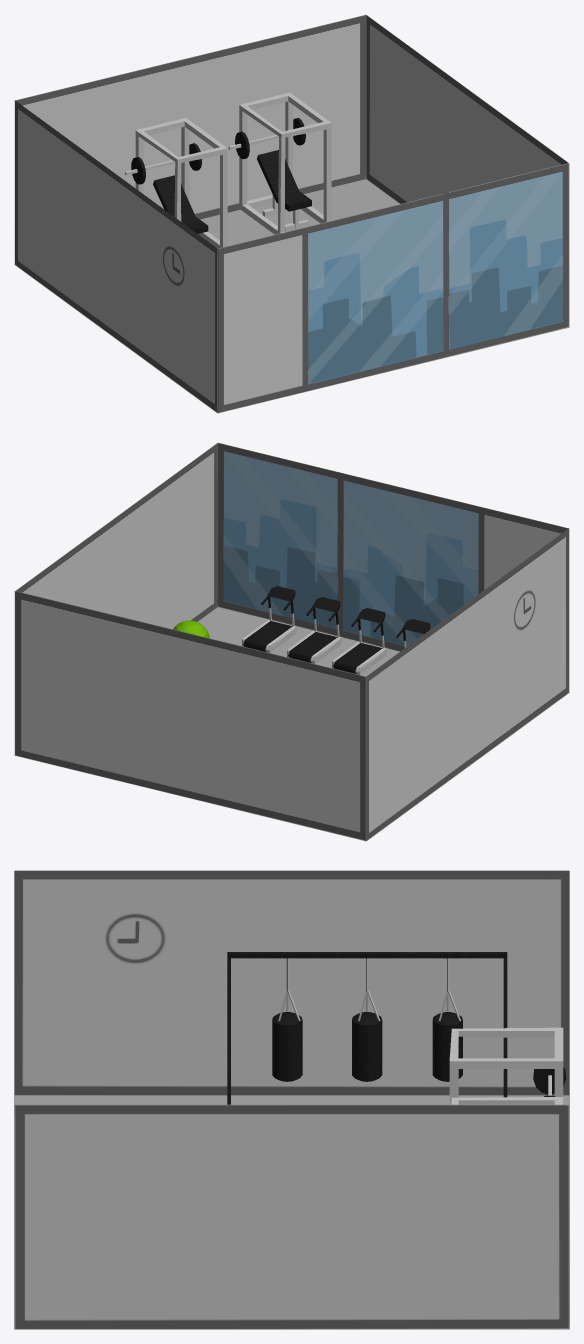
File: model_trainingroom_all.obj
3 views of the same model, one above another, from view 1: azimuth 30°, elevation 25°; view 2: azimuth 150°, elevation 25°; view 3: azimuth 270°, elevation 25° (orthographic). The views are drawn at different scales.
Visible parts, largest first — view 1: group7 group6 group5 group4 pasted__pPlane2 group8, group7 group6 group5 group4 group8 pasted__pPlane1, group7 group6 group5 group4 group8 pasted__pasted__pPlane2, group7 group6 group5 group4 group8 pasted__pasted__pasted__pPlan, pasted__group43 group group48 pasted__pCube6, pPlane1 group7 group6 group5 group4, group48 group43 group47 pCube6, pasted__group43 group group48 pasted__pCube4, group48 group43 group47 pCube4; view 2: group7 group6 group5 group4 group8 pasted__pPlane1, group7 group6 group5 group4 pasted__pPlane2 group8, group7 group6 group5 group4 group8 pasted__pasted__pPlane2, group7 group6 group5 group4 group8 pasted__pasted__pasted__pPlan, pPlane1 group7 group6 group5 group4, group17 group46 pasted__pCube1 pasted__group13 group14, group17 group46 pasted__pasted__pasted__pCube1 pasted__pasted__p, group17 group46 pasted__pasted__pCube1 pasted__pasted__group13 p, group17 group46 pasted__pasted__group13 pasted__group14 group15 , group17 group46 pasted__pasted__pasted__group13 pasted__pasted__; view 3: group7 group6 group5 group4 group8 pasted__pasted__pasted__pPlan, group7 group6 group5 group4 group8 pasted__pasted__pPlane2, pPlane1 group7 group6 group5 group4, group48 group43 group47 pCube6, group31 group32 group33 group29 group23 pCylinder1, group31 group32 group33 pasted__pasted__pCylinder1 pasted__group, pCube3 group31 group32 group33, group31 group32 group33 group30 pasted__pCylinder1 group21, pasted__group43 group group48 pasted__pCube6, group31 group32 group33 group28 pasted__pasted__pasted__pCube3 p, group31 group32 group33 pasted__pasted__pCube3 pasted__group26 g.
Part boxes in pixels (bbox=[...]): group7 group6 group5 group4 pasted__pPlane2 group8: bbox=[217, 163, 568, 412]; group7 group6 group5 group4 group8 pasted__pPlane1: bbox=[14, 14, 366, 264]; group7 group6 group5 group4 group8 pasted__pasted__pPlane2: bbox=[15, 100, 218, 412]; group7 group6 group5 group4 group8 pasted__pasted__pasted__pPlan: bbox=[366, 15, 569, 327]; pasted__group43 group group48 pasted__pCube6: bbox=[239, 92, 331, 234]; pPlane1 group7 group6 group5 group4: bbox=[14, 179, 569, 413]; group48 group43 group47 pCube6: bbox=[135, 118, 227, 248]; pasted__group43 group group48 pasted__pCube4: bbox=[257, 150, 311, 211]; group48 group43 group47 pCube4: bbox=[153, 175, 208, 233]; group7 group6 group5 group4 group8 pasted__pPlane1: bbox=[15, 591, 366, 840]; group7 group6 group5 group4 pasted__pPlane2 group8: bbox=[217, 442, 569, 692]; group7 group6 group5 group4 group8 pasted__pasted__pPlane2: bbox=[365, 528, 568, 840]; group7 group6 group5 group4 group8 pasted__pasted__pasted__pPlan: bbox=[14, 443, 217, 755]; pPlane1 group7 group6 group5 group4: bbox=[14, 607, 569, 841]; group17 group46 pasted__pCube1 pasted__group13 group14: bbox=[332, 641, 387, 674]; group17 group46 pasted__pasted__pasted__pCube1 pasted__pasted__p: bbox=[242, 619, 297, 652]; group17 group46 pasted__pasted__pCube1 pasted__pasted__group13 p: bbox=[287, 630, 342, 663]; group17 group46 pasted__pasted__group13 pasted__group14 group15 : bbox=[306, 597, 340, 637]; group17 group46 pasted__pasted__pasted__group13 pasted__pasted__: bbox=[261, 586, 295, 626]; group7 group6 group5 group4 group8 pasted__pasted__pasted__pPlan: bbox=[14, 1104, 569, 1329]; group7 group6 group5 group4 group8 pasted__pasted__pPlane2: bbox=[14, 870, 569, 1095]; pPlane1 group7 group6 group5 group4: bbox=[14, 1095, 569, 1329]; group48 group43 group47 pCube6: bbox=[449, 1027, 563, 1104]; group31 group32 group33 group29 group23 pCylinder1: bbox=[272, 1012, 302, 1081]; group31 group32 group33 pasted__pasted__pCylinder1 pasted__group: bbox=[352, 1012, 382, 1081]; pCube3 group31 group32 group33: bbox=[228, 952, 506, 958]; group31 group32 group33 group30 pasted__pCylinder1 group21: bbox=[432, 1012, 462, 1081]; pasted__group43 group group48 pasted__pCube6: bbox=[451, 1097, 563, 1104]; group31 group32 group33 group28 pasted__pasted__pasted__pCube3 p: bbox=[503, 953, 507, 1097]; group31 group32 group33 pasted__pasted__pCube3 pasted__group26 g: bbox=[227, 952, 507, 1104].
Bounding box in the file's own units: 7.84 × 3.52 × 7.84.
